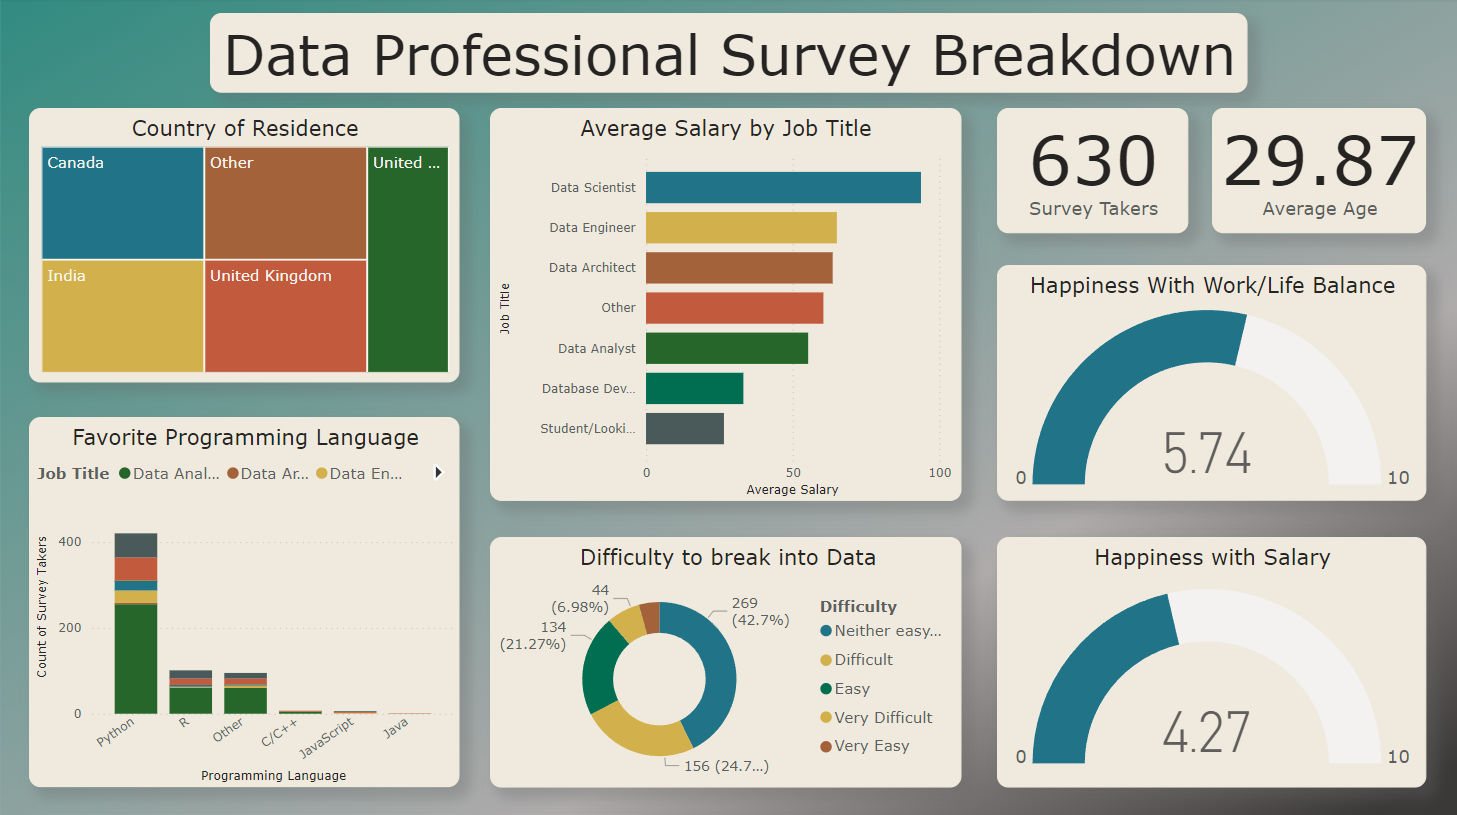

What the dashboard file says about the page in this screenshot:
{"tool":"powerbi","page":{"name":"Page 1","canvas":[1280,720],"ordinal":0},"visuals":[{"type":"textbox","box":[184.4,13.2,910.5,70.2],"z":0},{"type":"card","fields":{"Values":["CountNonNull(Data Professional Survey.Unique ID)"]},"box":[875.4,96.6,167.7,109.8],"z":1000},{"type":"card","fields":{"Values":["Avg(Data Professional Survey.Q10 - Current Age)"]},"box":[1064.2,96.6,187.9,109.8],"z":2000},{"type":"barChart","title":"Average Salary by Job Title","fields":{"Category":["Data Professional Survey.Q1 - Which Title Best Fits your Current Role?.1"],"Y":["Avg(Data Professional Survey.Average Salary)"],"Series":["Data Professional Survey.Q1 - Which Title Best Fits your Current Role?.1"]},"box":[430.2,96.6,414.4,345.1],"z":3000},{"type":"columnChart","title":"Favorite Programming Language","fields":{"Category":["Data Professional Survey.Q5 - Favorite Programming Language.1"],"Y":["CountNonNull(Data Professional Survey.Unique ID)"],"Series":["Data Professional Survey.Q1 - Which Title Best Fits your Current Role?.1"]},"box":[25.5,367.9,377.6,324.9],"z":4000},{"type":"treemap","title":"Country of Residence","fields":{"Group":["Data Professional Survey.Q11 - Which Country do you live in?.1"],"Values":["Count(Data Professional Survey.Q11 - Which Country do you live in?.1)"]},"box":[25.5,96.6,377.6,241.5],"z":5000},{"type":"gauge","title":"Happiness With Work/Life Balance","fields":{"Y":["Avg(Data Professional Survey.Q6 - How Happy are you in your Current Position with the following? (Work/Life Balance))"],"MinValue":["Min(Data Professional Survey.Q6 - How Happy are you in your Current Position with the following? (Work/Life Balance))1"],"MaxValue":["Max(Data Professional Survey.Q6 - How Happy are you in your Current Position with the following? (Work/Life Balance))2"]},"box":[875.4,234.4,376.7,207.2],"z":6000},{"type":"gauge","title":"Happiness with Salary","fields":{"Y":["Avg(Data Professional Survey.Q6 - How Happy are you in your Current Position with the following? (Salary))"],"MinValue":["Min(Data Professional Survey.Q6 - How Happy are you in your Current Position with the following? (Salary))"],"MaxValue":["Max(Data Professional Survey.Q6 - How Happy are you in your Current Position with the following? (Salary))1"]},"box":[875.4,473.3,376.7,219.5],"z":7000},{"type":"donutChart","title":"Difficulty to break into Data","fields":{"Category":["Data Professional Survey.Q7 - How difficult was it for you to break into Data?"],"Y":["CountNonNull(Data Professional Survey.Q7 - How difficult was it for you to break into Data?)"]},"box":[430.2,473.3,414.4,219.5],"z":8000}]}

Visuals, with their boxes in screenshot pixels (x1, y1, x2, y2), scaled from the page's 1280x720 canvas onto the 1457x815 screenshot:
textbox: 210:15:1246:94
card - CountNonNull(Data Professional Survey.Unique ID): 996:109:1187:234
card - Avg(Data Professional Survey.Q10 - Current Age): 1211:109:1425:234
"Average Salary by Job Title" barChart: 490:109:961:500
"Favorite Programming Language" columnChart: 29:416:459:784
"Country of Residence" treemap: 29:109:459:383
"Happiness With Work/Life Balance" gauge: 996:265:1425:500
"Happiness with Salary" gauge: 996:536:1425:784
"Difficulty to break into Data" donutChart: 490:536:961:784
